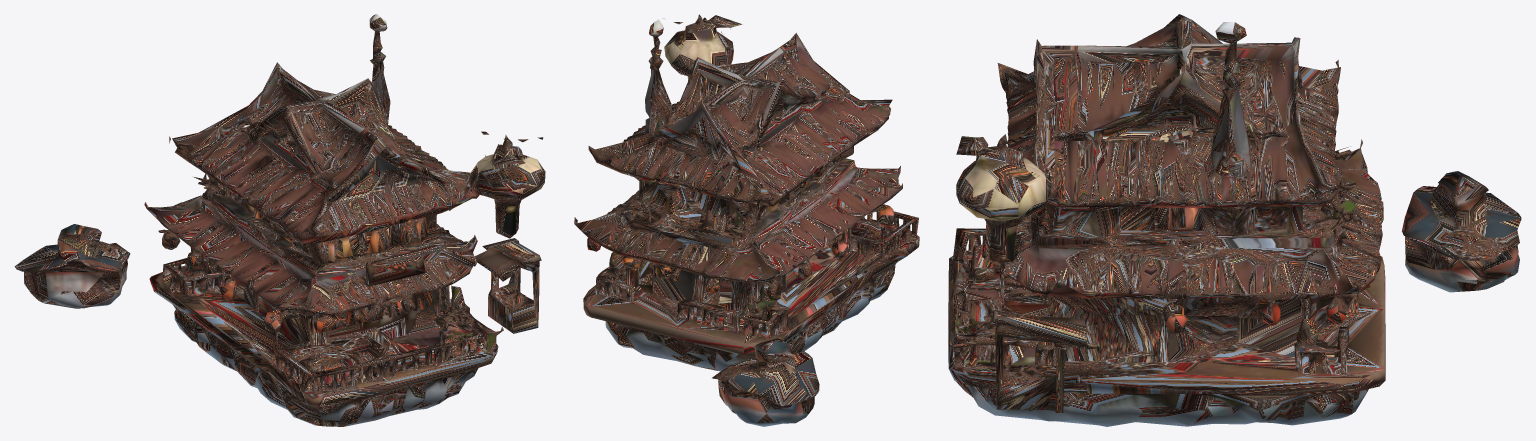
Rendered from bq_tavern.lod.glb.
3 renders of one model, left to right at view 1: azimuth 30°, elevation 25°; view 2: azimuth 150°, elevation 25°; view 3: azimuth 270°, elevation 25°, orthographic. The views are drawn at different scales.
Size of the model in its own units: 1.83 by 1.58 by 1.99.
Materials: 1 (1 with a texture image).
